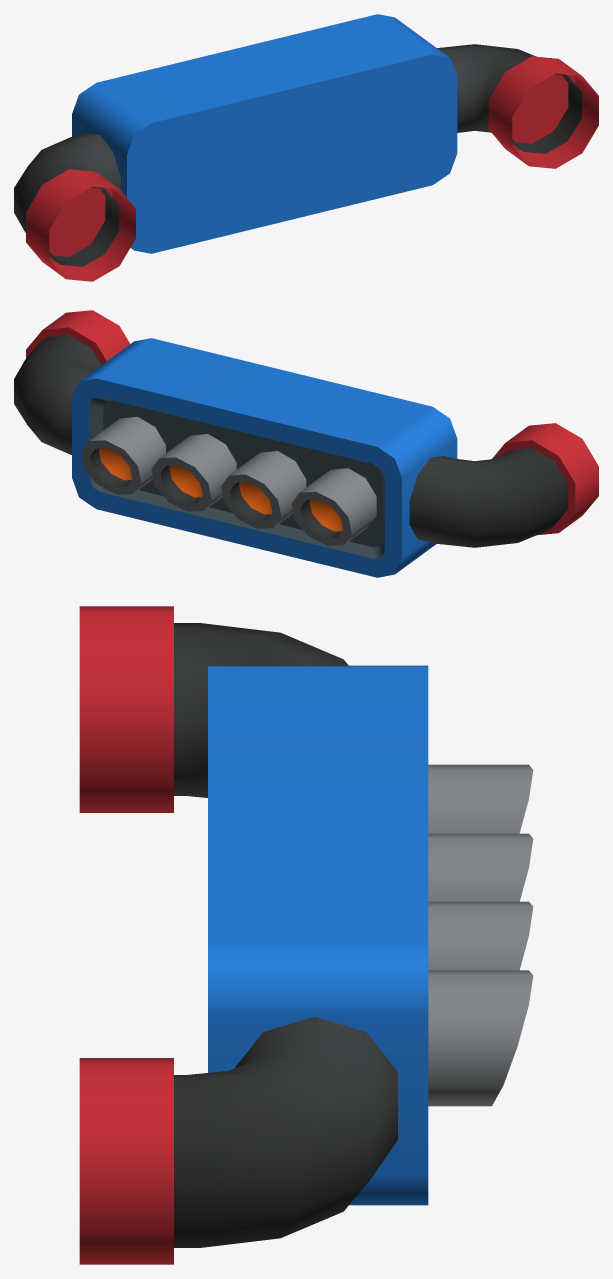
File: Car_07_Pipe_Cool.fbx
The picture shows the model from 3 angles, top to bottom: view 1: azimuth 30°, elevation 25°; view 2: azimuth 150°, elevation 25°; view 3: azimuth 270°, elevation 25°; orthographic projection. The views are drawn at different scales.
Visible parts, largest first — view 1: Car_07_Pipe_Cool; view 2: Car_07_Pipe_Cool; view 3: Car_07_Pipe_Cool.
Part boxes in pixels (bbox=[...]): Car_07_Pipe_Cool: bbox=[14, 14, 598, 281]; Car_07_Pipe_Cool: bbox=[14, 310, 598, 577]; Car_07_Pipe_Cool: bbox=[79, 606, 533, 1264].
Size of the model in its own units: 129 by 46.24 by 29.42.
